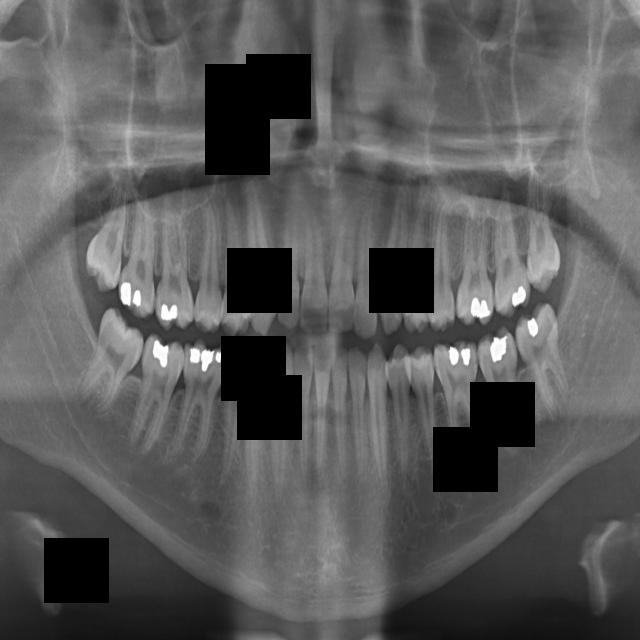3M ESPE Implant: (82, 170, 131, 293)
AGS Medikal Implant: (473, 323, 535, 458)
AMerOss Implant: (433, 337, 490, 475)
Amalgam filling: (117, 185, 159, 320)
Anthogyr Implant: (409, 343, 442, 493)
Bicon Implant: (386, 343, 417, 498)
BioHorizons Implant: (365, 341, 395, 504)
BioLife Implant: (348, 344, 368, 481)
Biomet 3i Implant: (331, 341, 349, 489)
Blue Sky Bio Implant: (308, 339, 332, 483)
Camlog Implant: (293, 341, 317, 494)
Caries: (353, 189, 384, 341)
Composite filling: (269, 335, 295, 513)
Cowellmedi Implant: (238, 353, 272, 504)
Crown: (214, 345, 250, 492)
DENTSPLY Implant: (152, 197, 195, 331)
Dentatus Implant: (159, 333, 230, 469)
Dentis Implant: (127, 332, 187, 461)
Dentium Implant: (71, 304, 154, 422)
Euroteknika Implant: (195, 190, 222, 333)
Filling: (222, 196, 253, 340)
Frontier Implant: (245, 174, 279, 337)
Hiossen Implant: (373, 180, 413, 338)
Implant: (300, 189, 330, 334)
Implant Direct: (276, 177, 304, 330)
Keystone Dental Implant: (325, 192, 363, 336)
MIS Implant: (398, 206, 430, 334)
Mandible: (424, 196, 456, 331)
Maxilla: (454, 194, 495, 326)
Megagen Implant: (501, 212, 506, 246)
Neodent Implant: (522, 168, 563, 294)
Neoss Implant: (508, 297, 579, 428)
